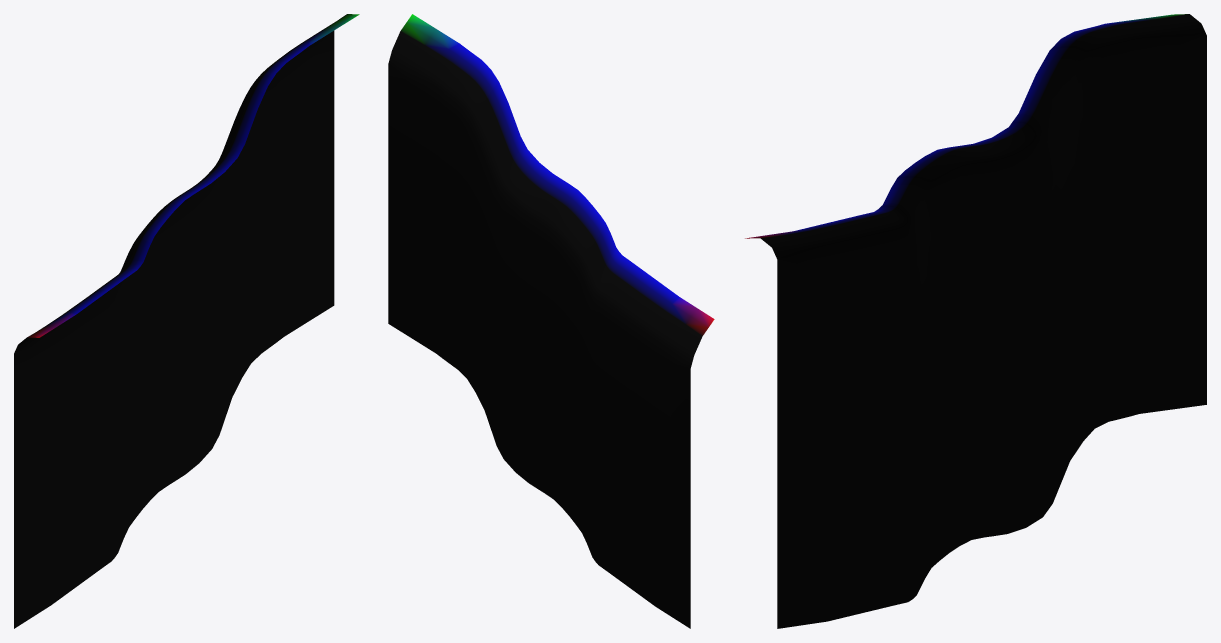
Rendered from 3DSlope01.fbx.
3 views of the same model, side by side, from view 1: azimuth 30°, elevation 25°; view 2: azimuth 150°, elevation 25°; view 3: azimuth 330°, elevation 25° (orthographic). The views are drawn at different scales.
Parts seen in each view (by area): view 1: polySurface2; view 2: polySurface2; view 3: polySurface2.
Part boxes in pixels (box(x1,y1,x2,y2)): polySurface2: box(14, 14, 359, 628); polySurface2: box(388, 14, 714, 628); polySurface2: box(745, 14, 1206, 628).
Size of the model in its own units: 5632 by 9325 by 777.
